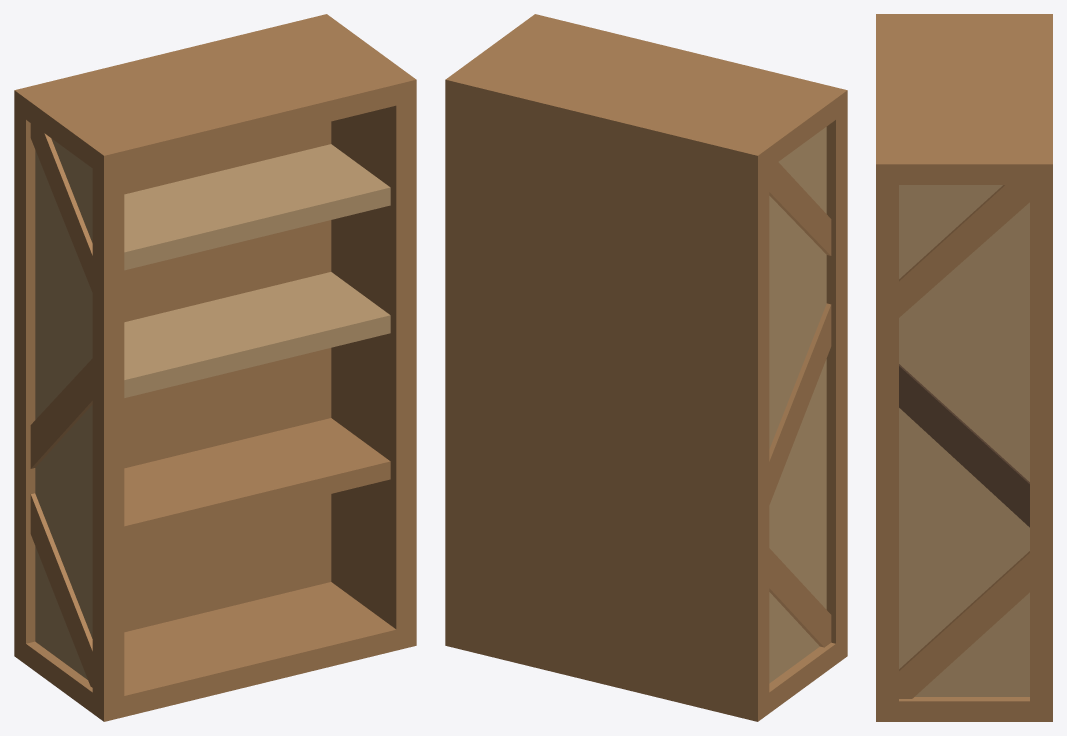
The model's file is shelf_2.fbx.
3 views of the same model, side by side, from view 1: azimuth 30°, elevation 25°; view 2: azimuth 150°, elevation 25°; view 3: azimuth 270°, elevation 25° (orthographic).
Visible parts, largest first — view 1: shelf_2; view 2: shelf_2; view 3: shelf_2.
Part boxes in pixels (left/top/right/bottom): shelf_2: left=14, top=14, right=416, bottom=721; shelf_2: left=445, top=14, right=847, bottom=721; shelf_2: left=876, top=14, right=1052, bottom=721.
Bounding box in the file's own units: 171 × 296 × 84.93.
